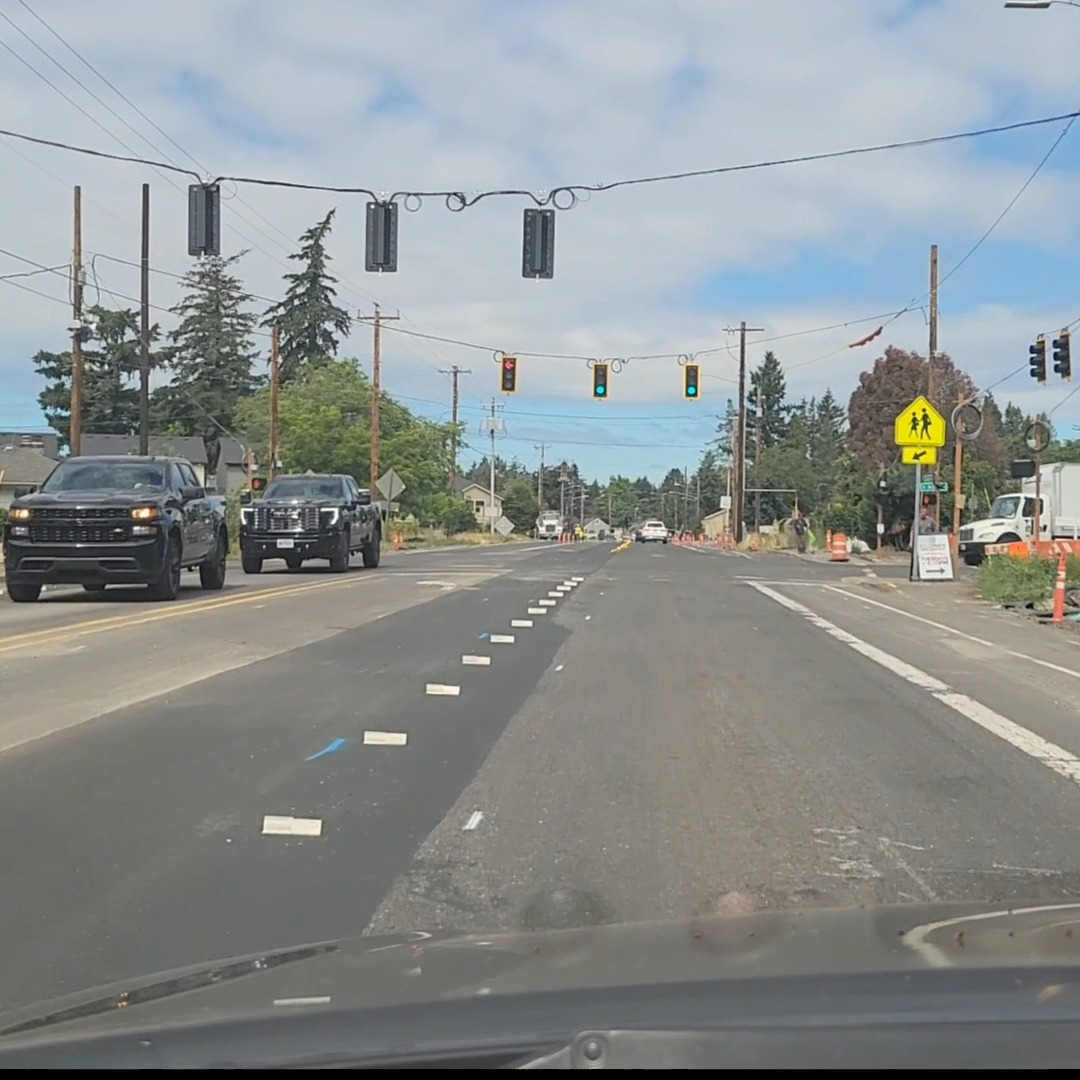car: (1, 454, 229, 600), (236, 474, 382, 574), (633, 520, 670, 544)
delineator: (1050, 550, 1069, 623)
